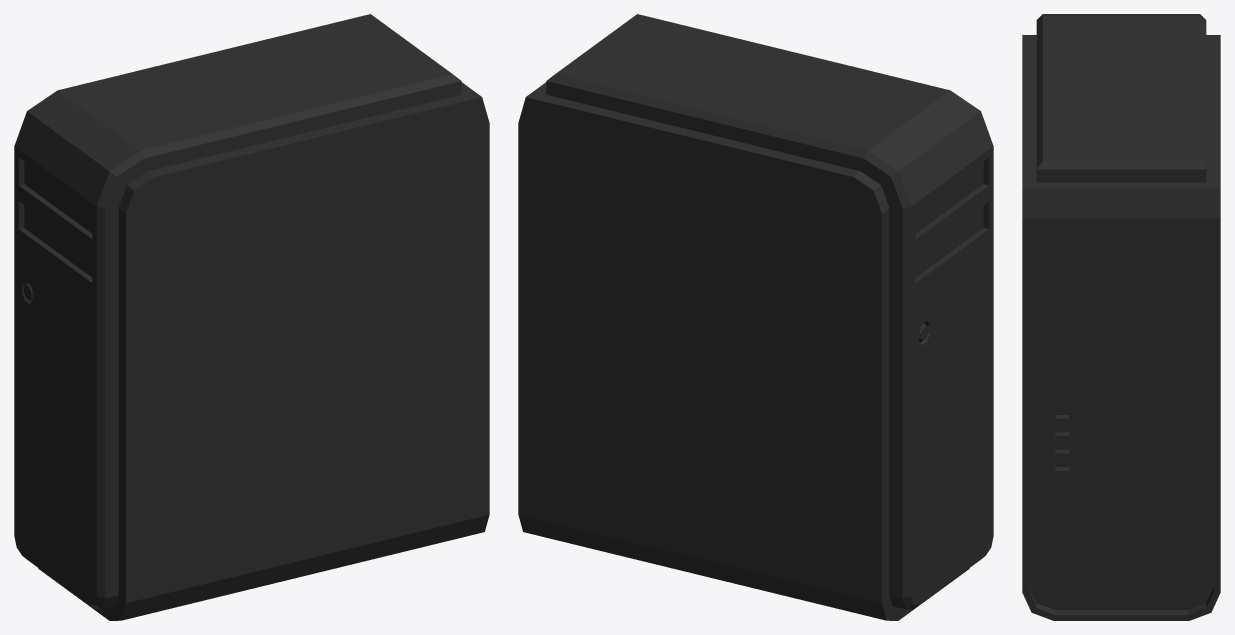
The picture shows the model from 3 angles, left to right: view 1: azimuth 30°, elevation 25°; view 2: azimuth 150°, elevation 25°; view 3: azimuth 270°, elevation 25°; orthographic projection. The views are drawn at different scales.
Parts seen in each view (by area): view 1: PC; view 2: PC; view 3: PC.
Boxes of the visible parts, x1,y1,x2,y2 form: PC: (14,14,489,620); PC: (518,14,993,620); PC: (1022,14,1220,620).
Size of the model in its own units: 63.23 by 74.02 by 29.73.
Materials: 1 (1 with a texture image).
